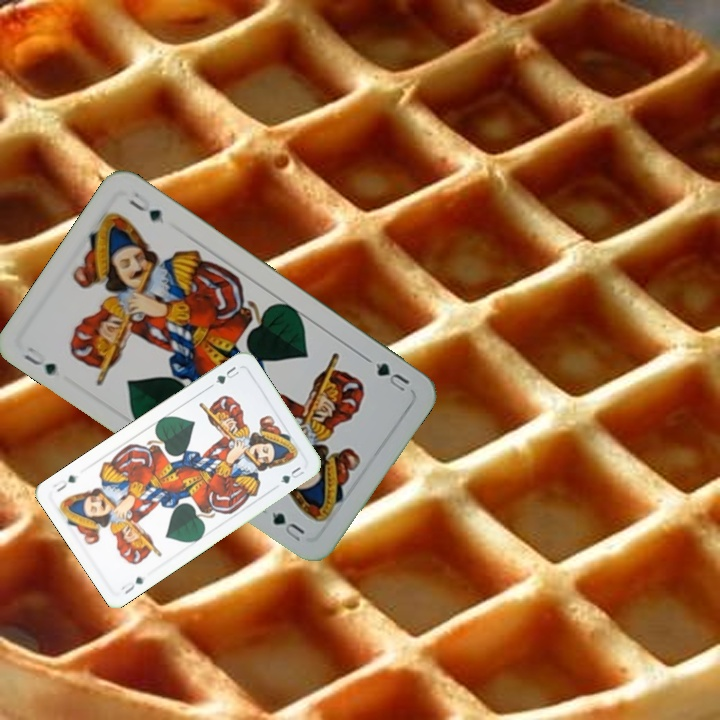GU: (371, 358, 412, 395), (19, 342, 59, 379), (211, 362, 243, 387), (117, 572, 146, 597)
